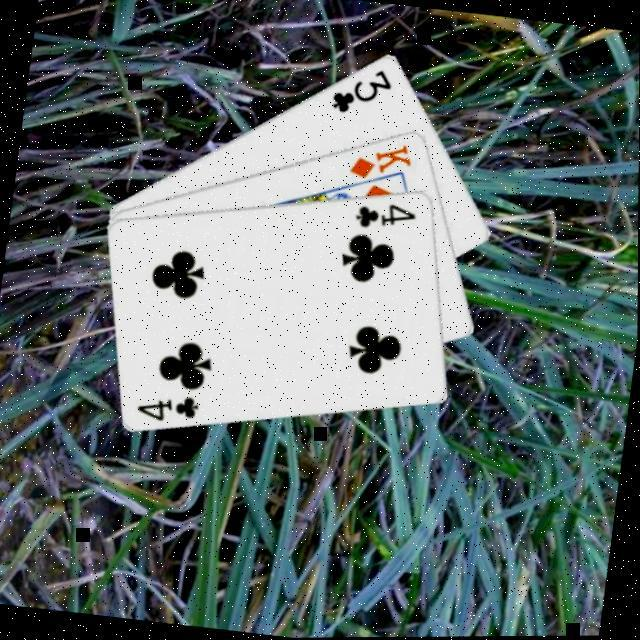3C: (328, 59, 398, 120)
4C: (134, 385, 206, 427), (352, 194, 422, 235)
KD: (346, 134, 416, 186)
